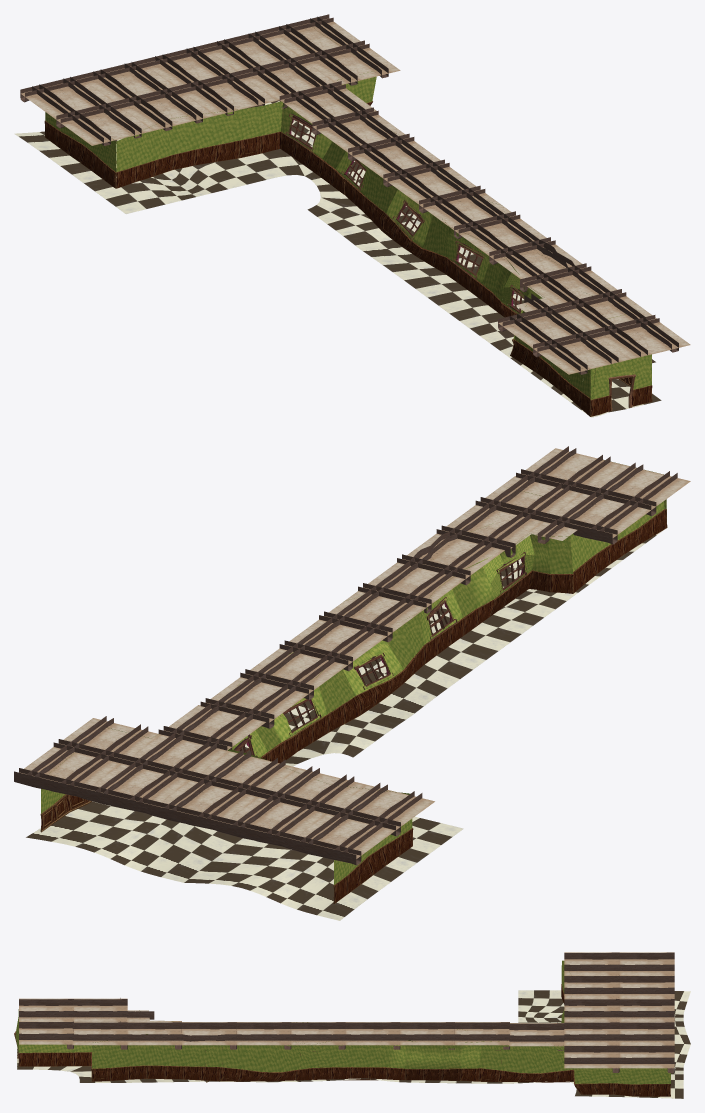
The model's file is Hallway_all.fbx.
3 views of the same model, one above another, from view 1: azimuth 30°, elevation 25°; view 2: azimuth 150°, elevation 25°; view 3: azimuth 270°, elevation 25° (orthographic). The views are drawn at different scales.
Parts seen in each view (by area): view 1: Hallway_all; view 2: Hallway_all; view 3: Hallway_all.
Part boxes in pixels (x1,y1,x2,y2): Hallway_all: (14, 14, 690, 417); Hallway_all: (14, 446, 690, 920); Hallway_all: (14, 952, 690, 1098).
Size of the model in its own units: 3452 by 607 by 8496.
Materials: 9 (8 with a texture image).
